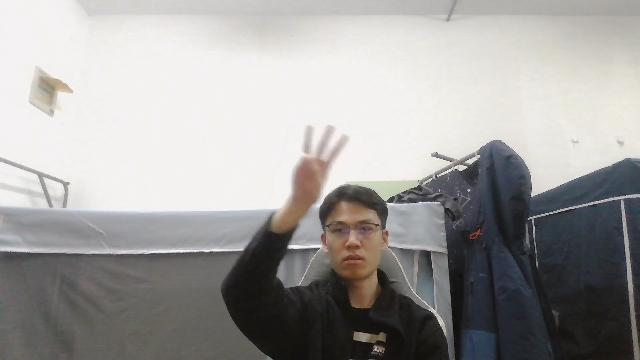three: (284, 119, 354, 219)
